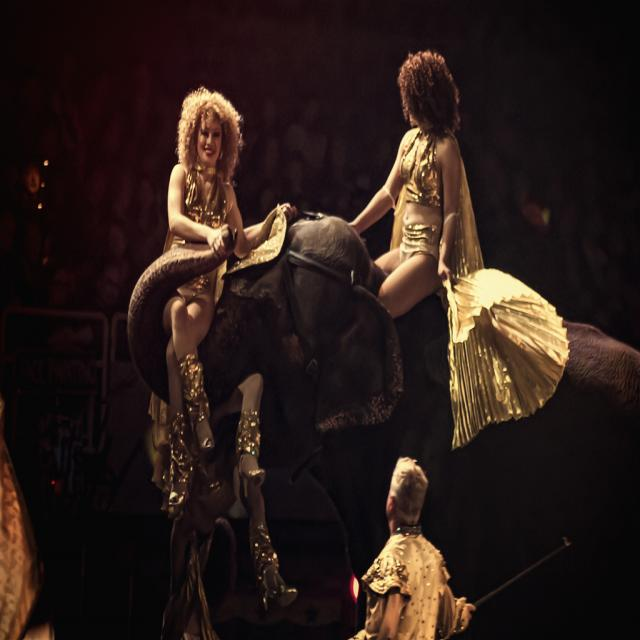elephant: (126, 216, 640, 639)
